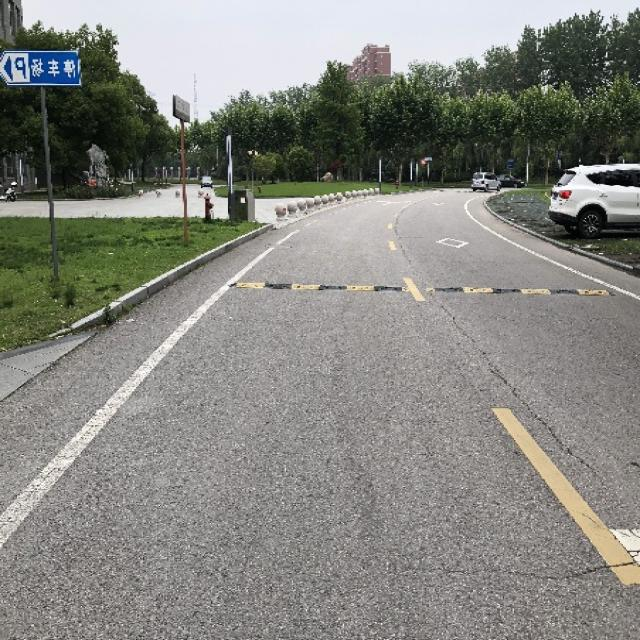Speed Bump: (242, 284, 609, 293)
